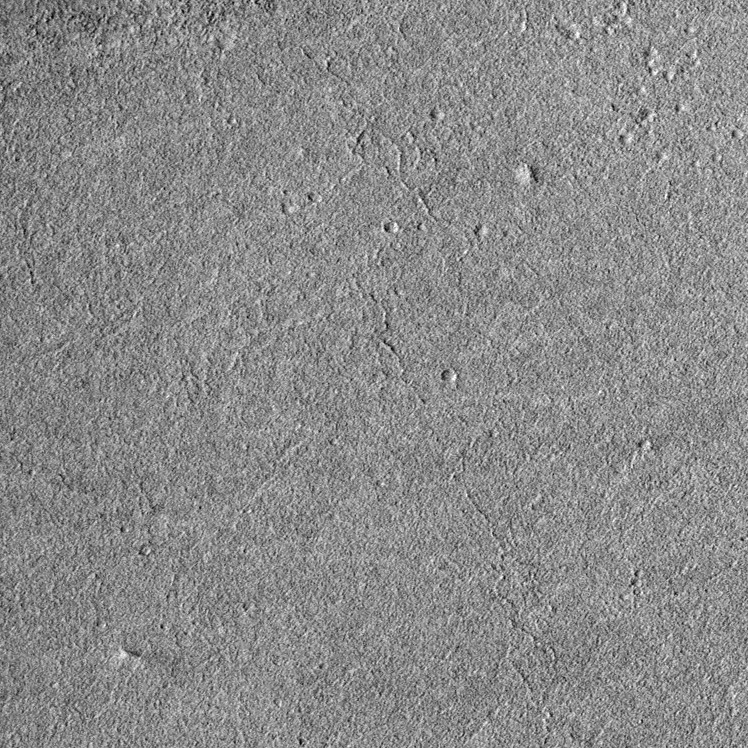dust_devil: (116, 644, 152, 663)
